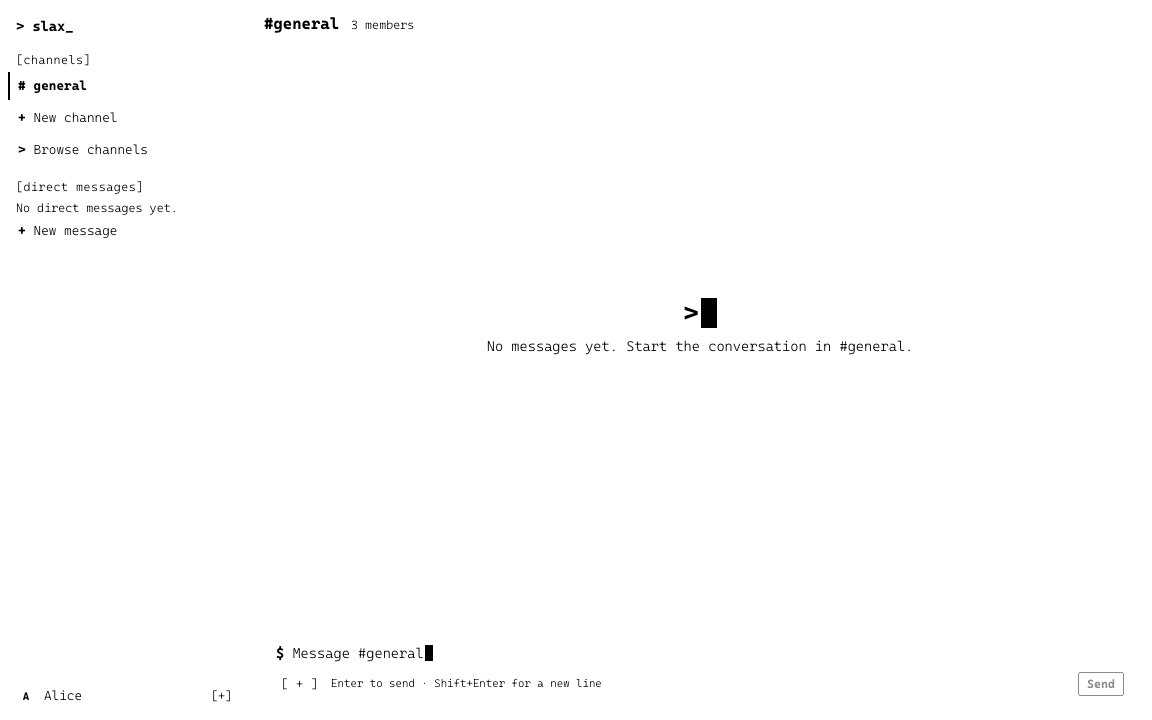
Scenario: new message › new_dm_dialog_searches_debounced_and_aborts_stale_requests
The width and height of the screenshot is (1152, 720).
Click the button with class "nav-item--action" showing "+ New message".
click(124, 231)  # box [8,217,240,245]
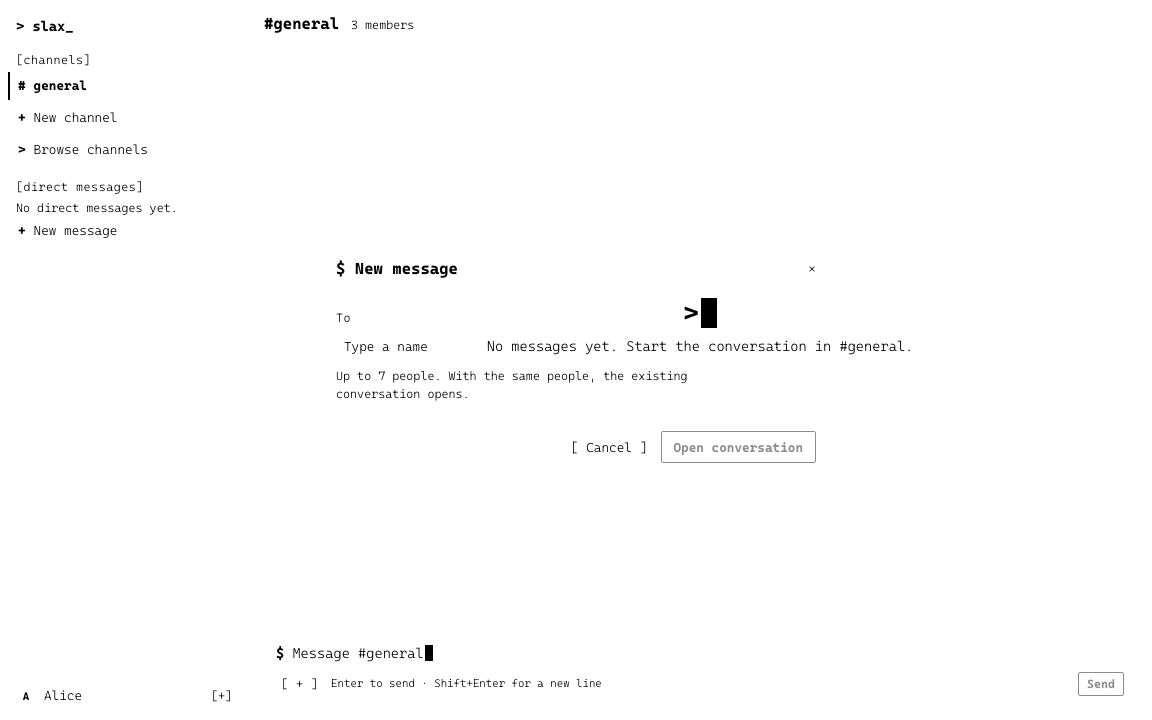
Type "d" into the dropdown labelled "To".
click(576, 347); type("d")  # box [344,335,808,359]
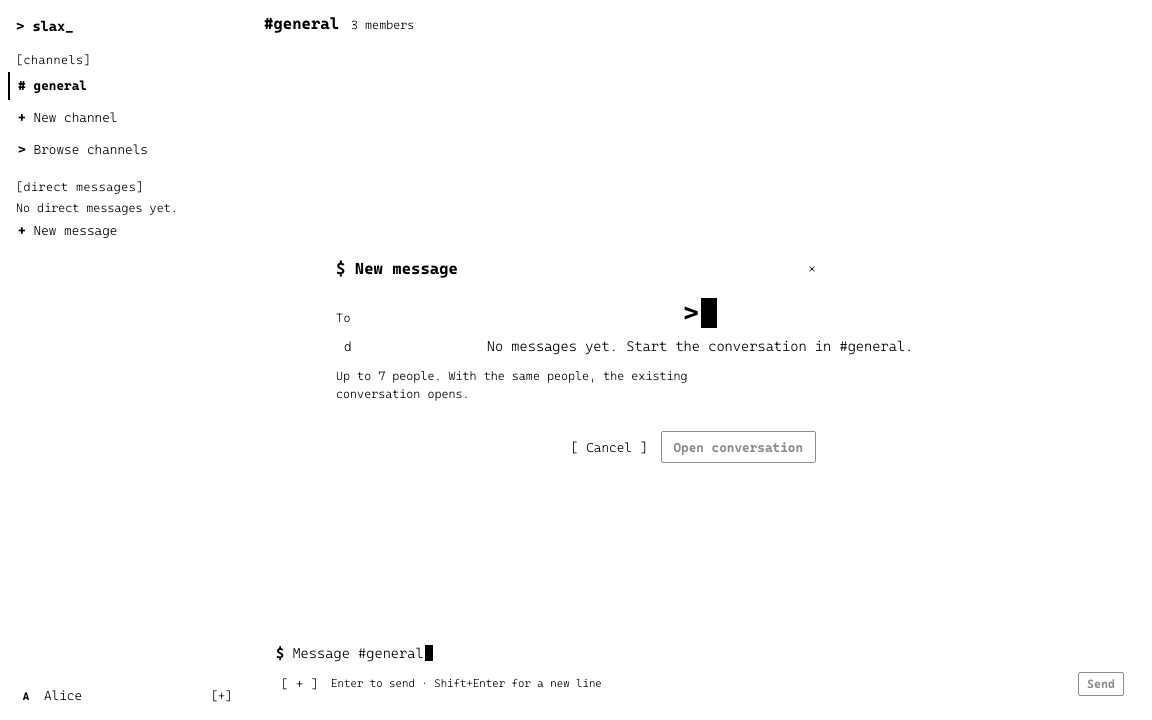
Replace the text in the dropdown labelled "To" with "da" at (576, 347), box [344,335,808,359]
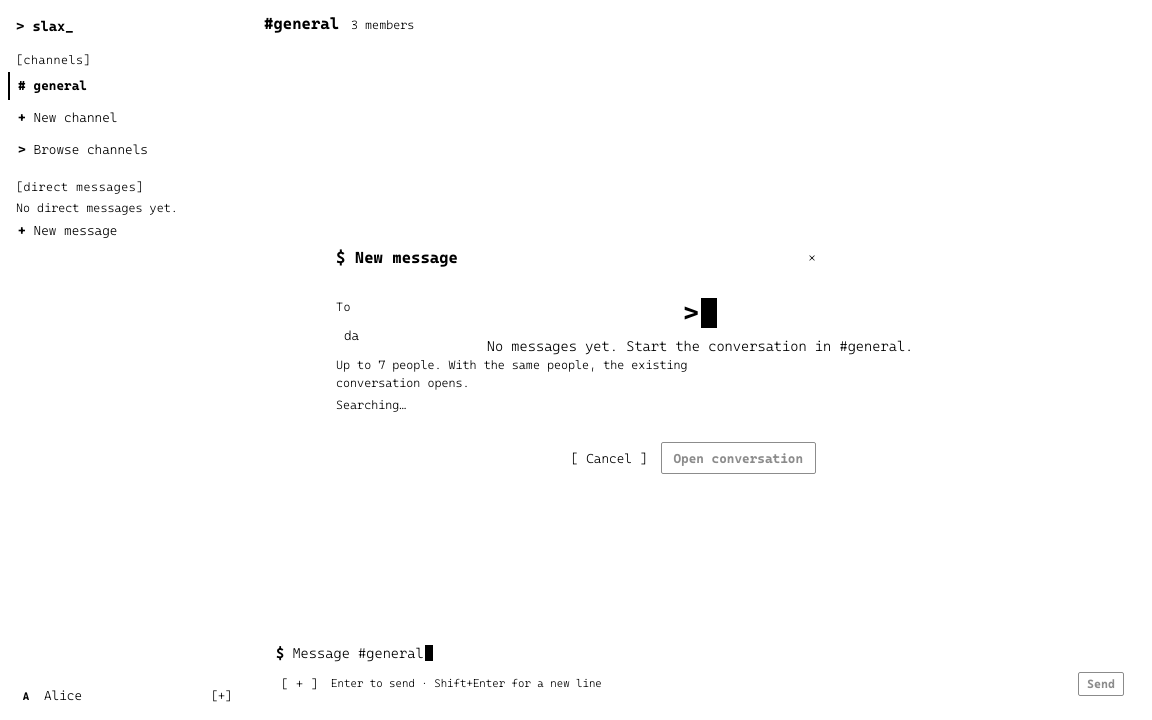
Replace the text in the dropdown labelled "To" with "dan" at (576, 336), box [344,324,808,348]
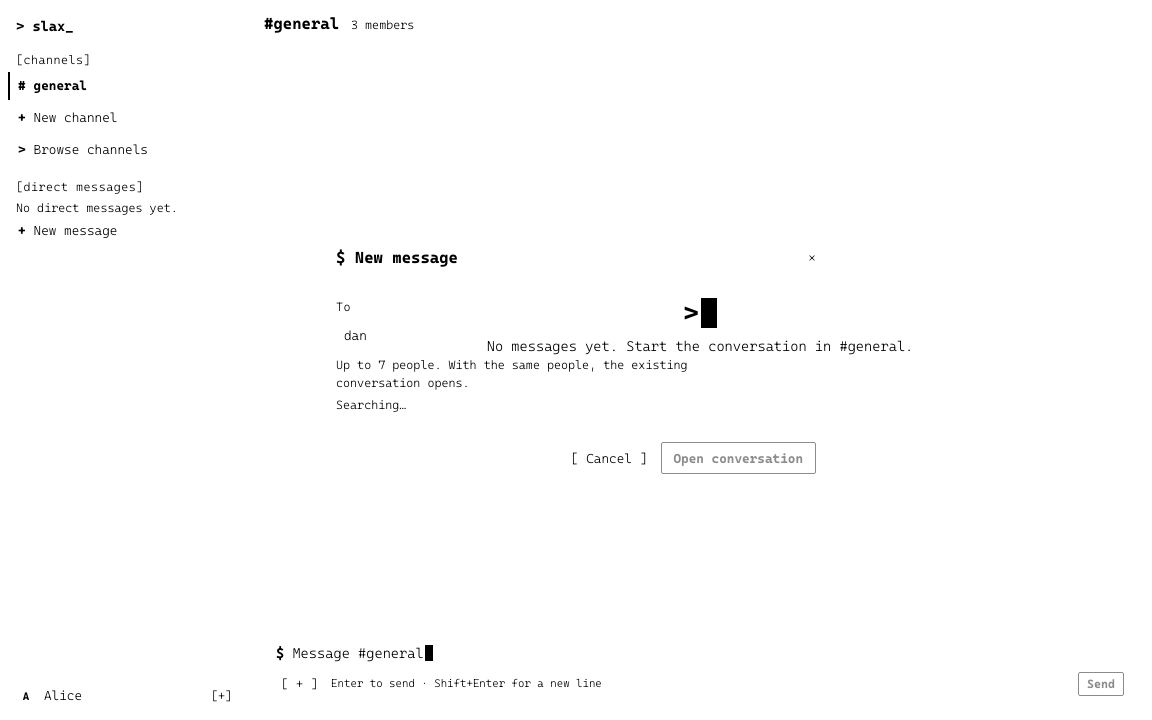
Replace the text in the dropdown labelled "To" with "dana" at (576, 336), box [344,324,808,348]
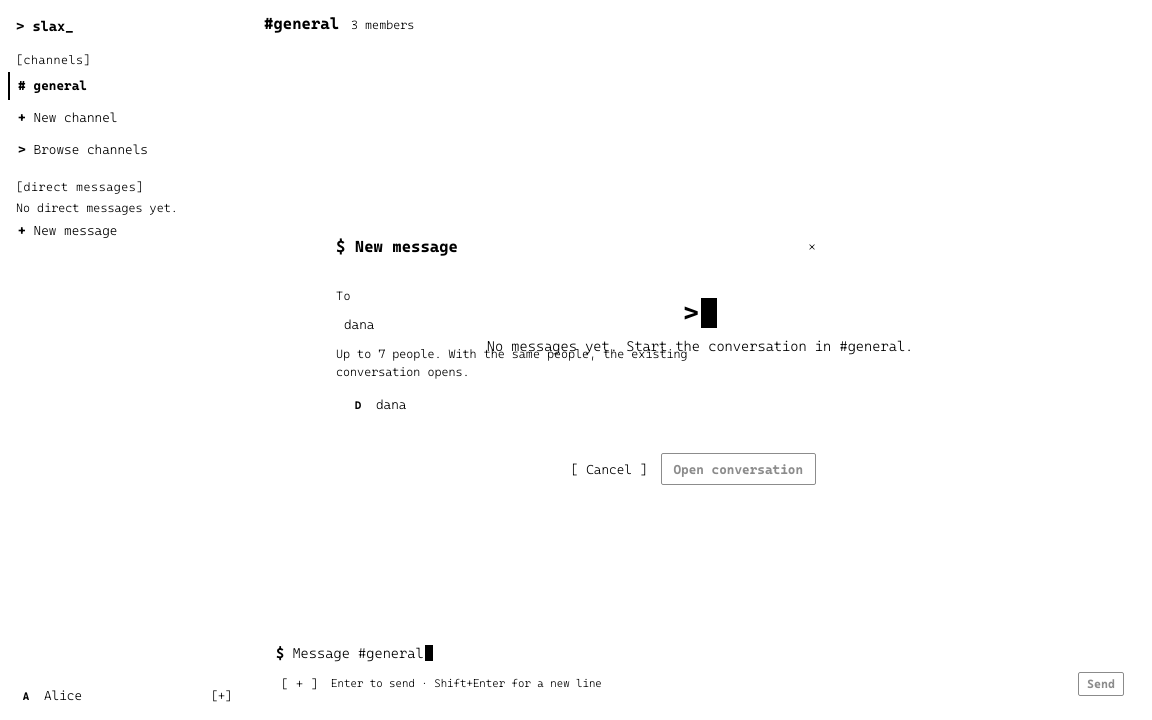
Now the dropdown labelled "To" is expanded, box [344,313,808,337]
